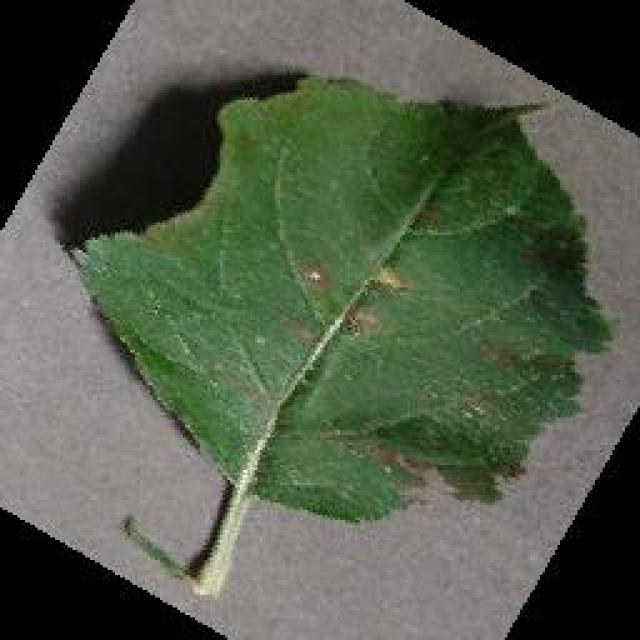apple healthy: (65, 70, 615, 598)
